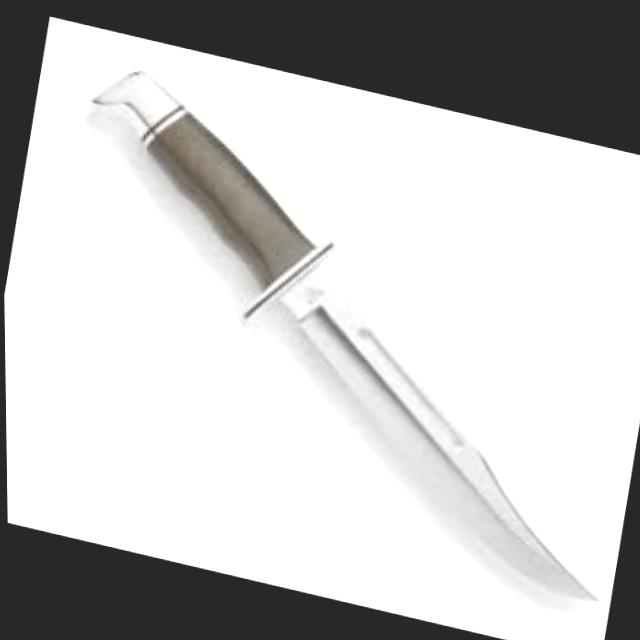knife: (19, 49, 640, 602)
